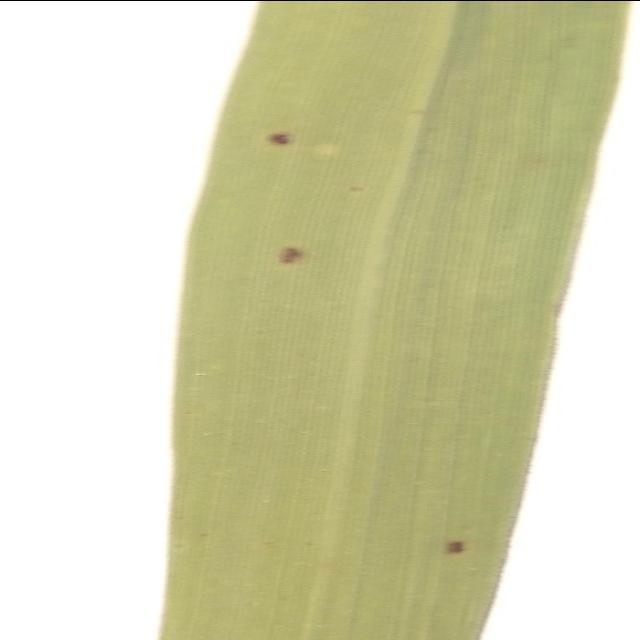Brown_Spot: (252, 234, 326, 270), (404, 526, 474, 557), (241, 124, 306, 148)
